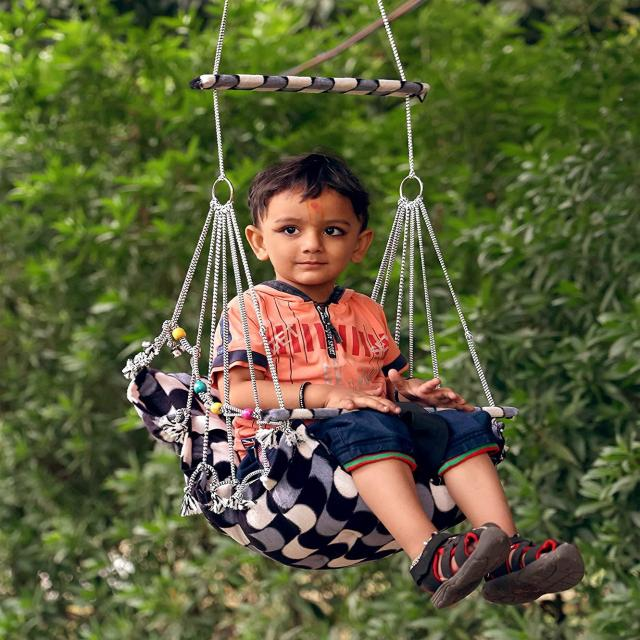child: (201, 146, 584, 613)
